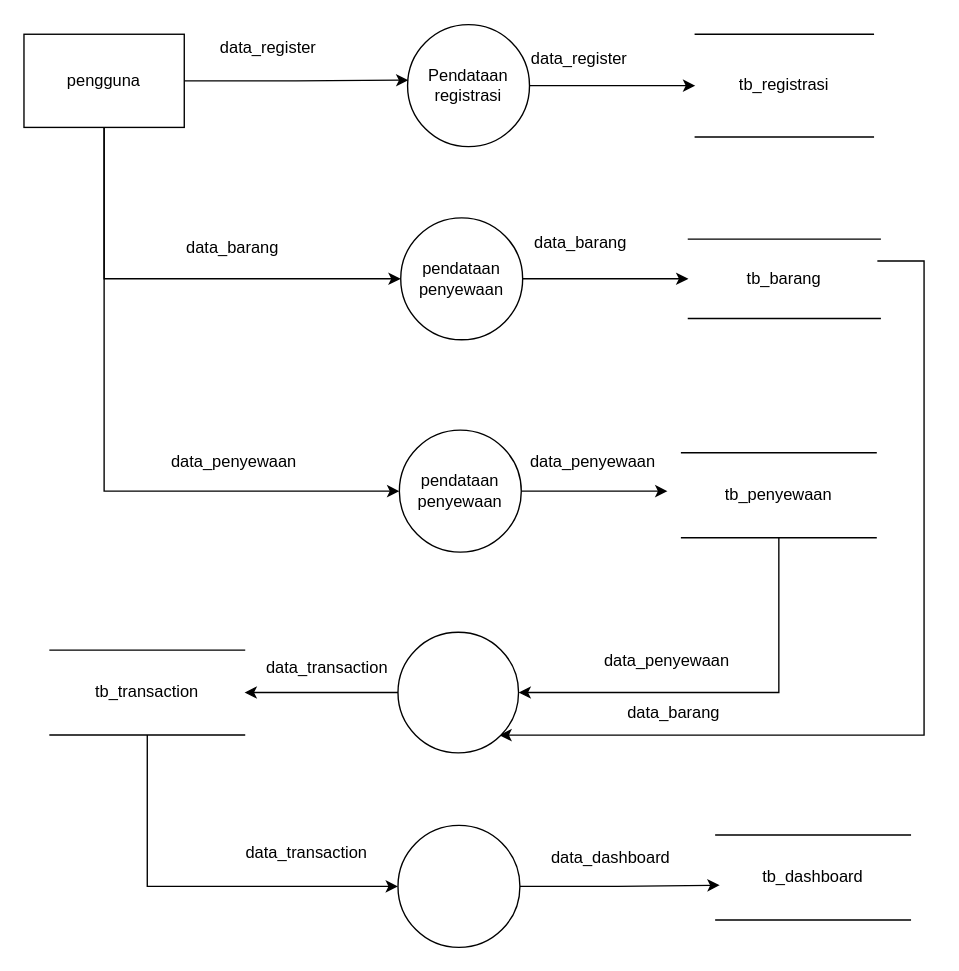
This 959x971 diagram has some shape labels left out. The shapes that lost their labels are listed below. From the top down, each one's centre as x and y in pixels, then its label:
At (x=458, y=692): "pendataan transaksi".
At (x=458, y=885): "Pendataan dashboard".
